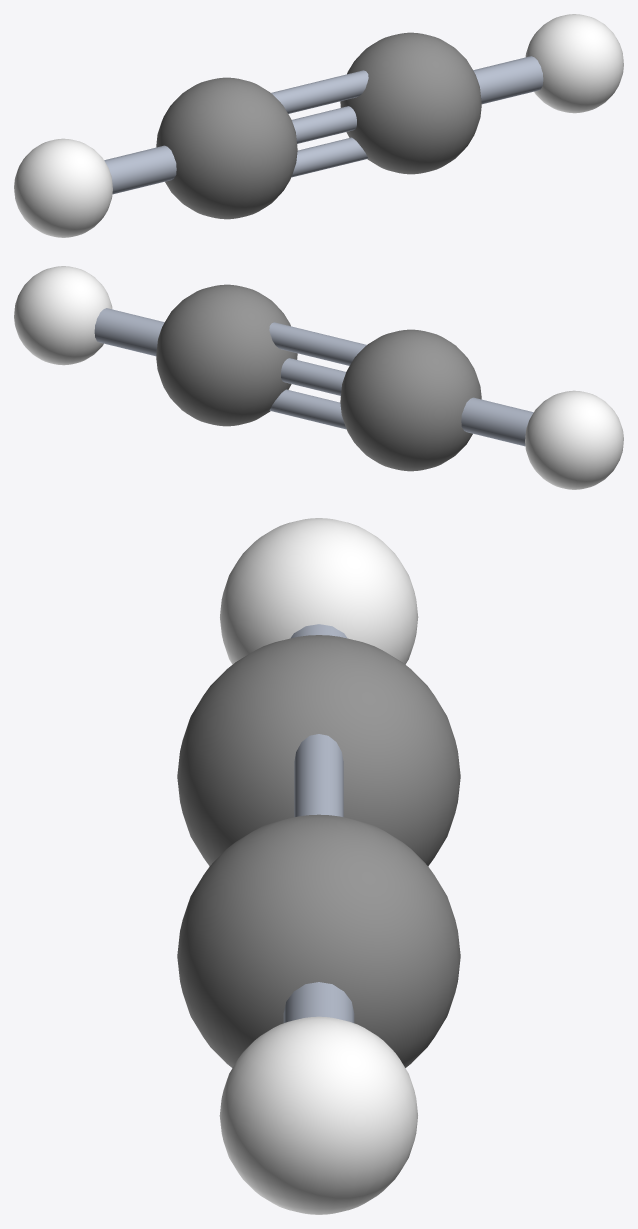
File: acetylene.glb
The picture shows the model from 3 angles, top to bottom: view 1: azimuth 30°, elevation 25°; view 2: azimuth 150°, elevation 25°; view 3: azimuth 270°, elevation 25°; orthographic projection. The views are drawn at different scales.
Parts seen in each view (by area): view 1: C (×2), H (×2), bond (×5); view 2: C (×2), H (×2), bond (×5); view 3: C (×2), H (×2), bond (×2).
Part boxes in pixels (x1,y1,x2,y2): C (×2): (156,32,481,219); H (×2): (14,14,623,237); bond (×5): (104,56,543,194); C (×2): (156,284,481,471); H (×2): (14,266,623,489); bond (×5): (94,308,533,446); C (×2): (177,635,460,1067); H (×2): (219,518,418,1214); bond (×2): (283,734,354,1022).
Size of the model in its own units: 0.22 by 0.0452 by 0.0452.
